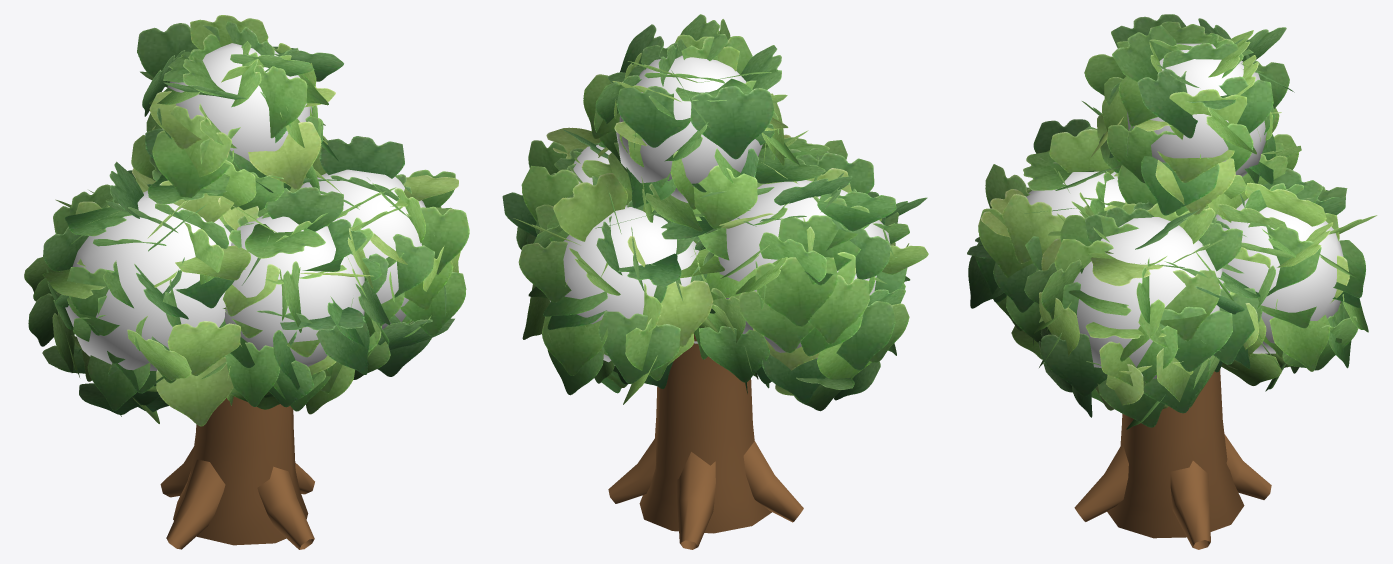
The model's file is tree-round-summer.glb.
The picture shows the model from 3 angles, left to right: view 1: azimuth 30°, elevation 25°; view 2: azimuth 150°, elevation 25°; view 3: azimuth 270°, elevation 25°; orthographic projection.
Parts seen in each view (by area): view 1: Crown, Hull, Trunk; view 2: Crown, Trunk, Hull; view 3: Crown, Hull, Trunk.
Part boxes in pixels (bbox=[...]): Crown: bbox=[24, 15, 469, 426]; Hull: bbox=[65, 43, 425, 370]; Trunk: bbox=[160, 396, 314, 549]; Crown: bbox=[502, 14, 928, 411]; Trunk: bbox=[608, 333, 803, 549]; Hull: bbox=[550, 55, 890, 365]; Crown: bbox=[967, 14, 1377, 429]; Hull: bbox=[1026, 43, 1343, 378]; Trunk: bbox=[1074, 370, 1271, 549].
Bounding box in the file's own units: 2.46 × 2.76 × 2.16.
4 materials, 1 textured.
